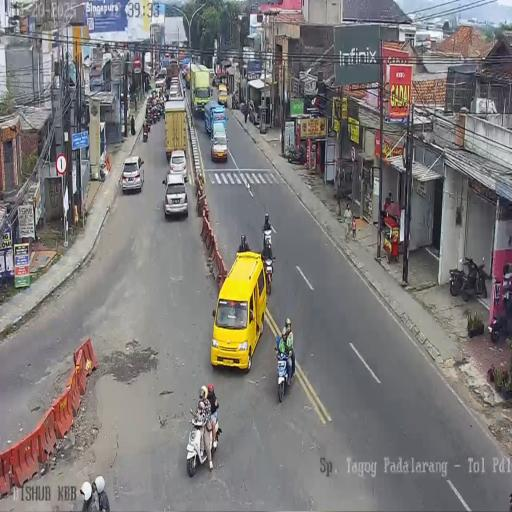3: (189, 62, 210, 114), (181, 63, 190, 87), (144, 51, 151, 77)
car: (211, 251, 267, 370), (121, 156, 144, 194), (209, 124, 228, 164), (168, 149, 187, 183), (246, 99, 259, 125), (217, 82, 228, 107), (170, 77, 179, 97), (155, 76, 166, 92)
truck: (186, 408, 220, 478), (449, 254, 488, 301), (490, 270, 512, 340), (274, 340, 293, 401), (262, 250, 274, 294), (286, 144, 305, 165), (241, 100, 246, 122), (232, 95, 238, 110), (211, 76, 218, 88), (143, 126, 148, 142)
